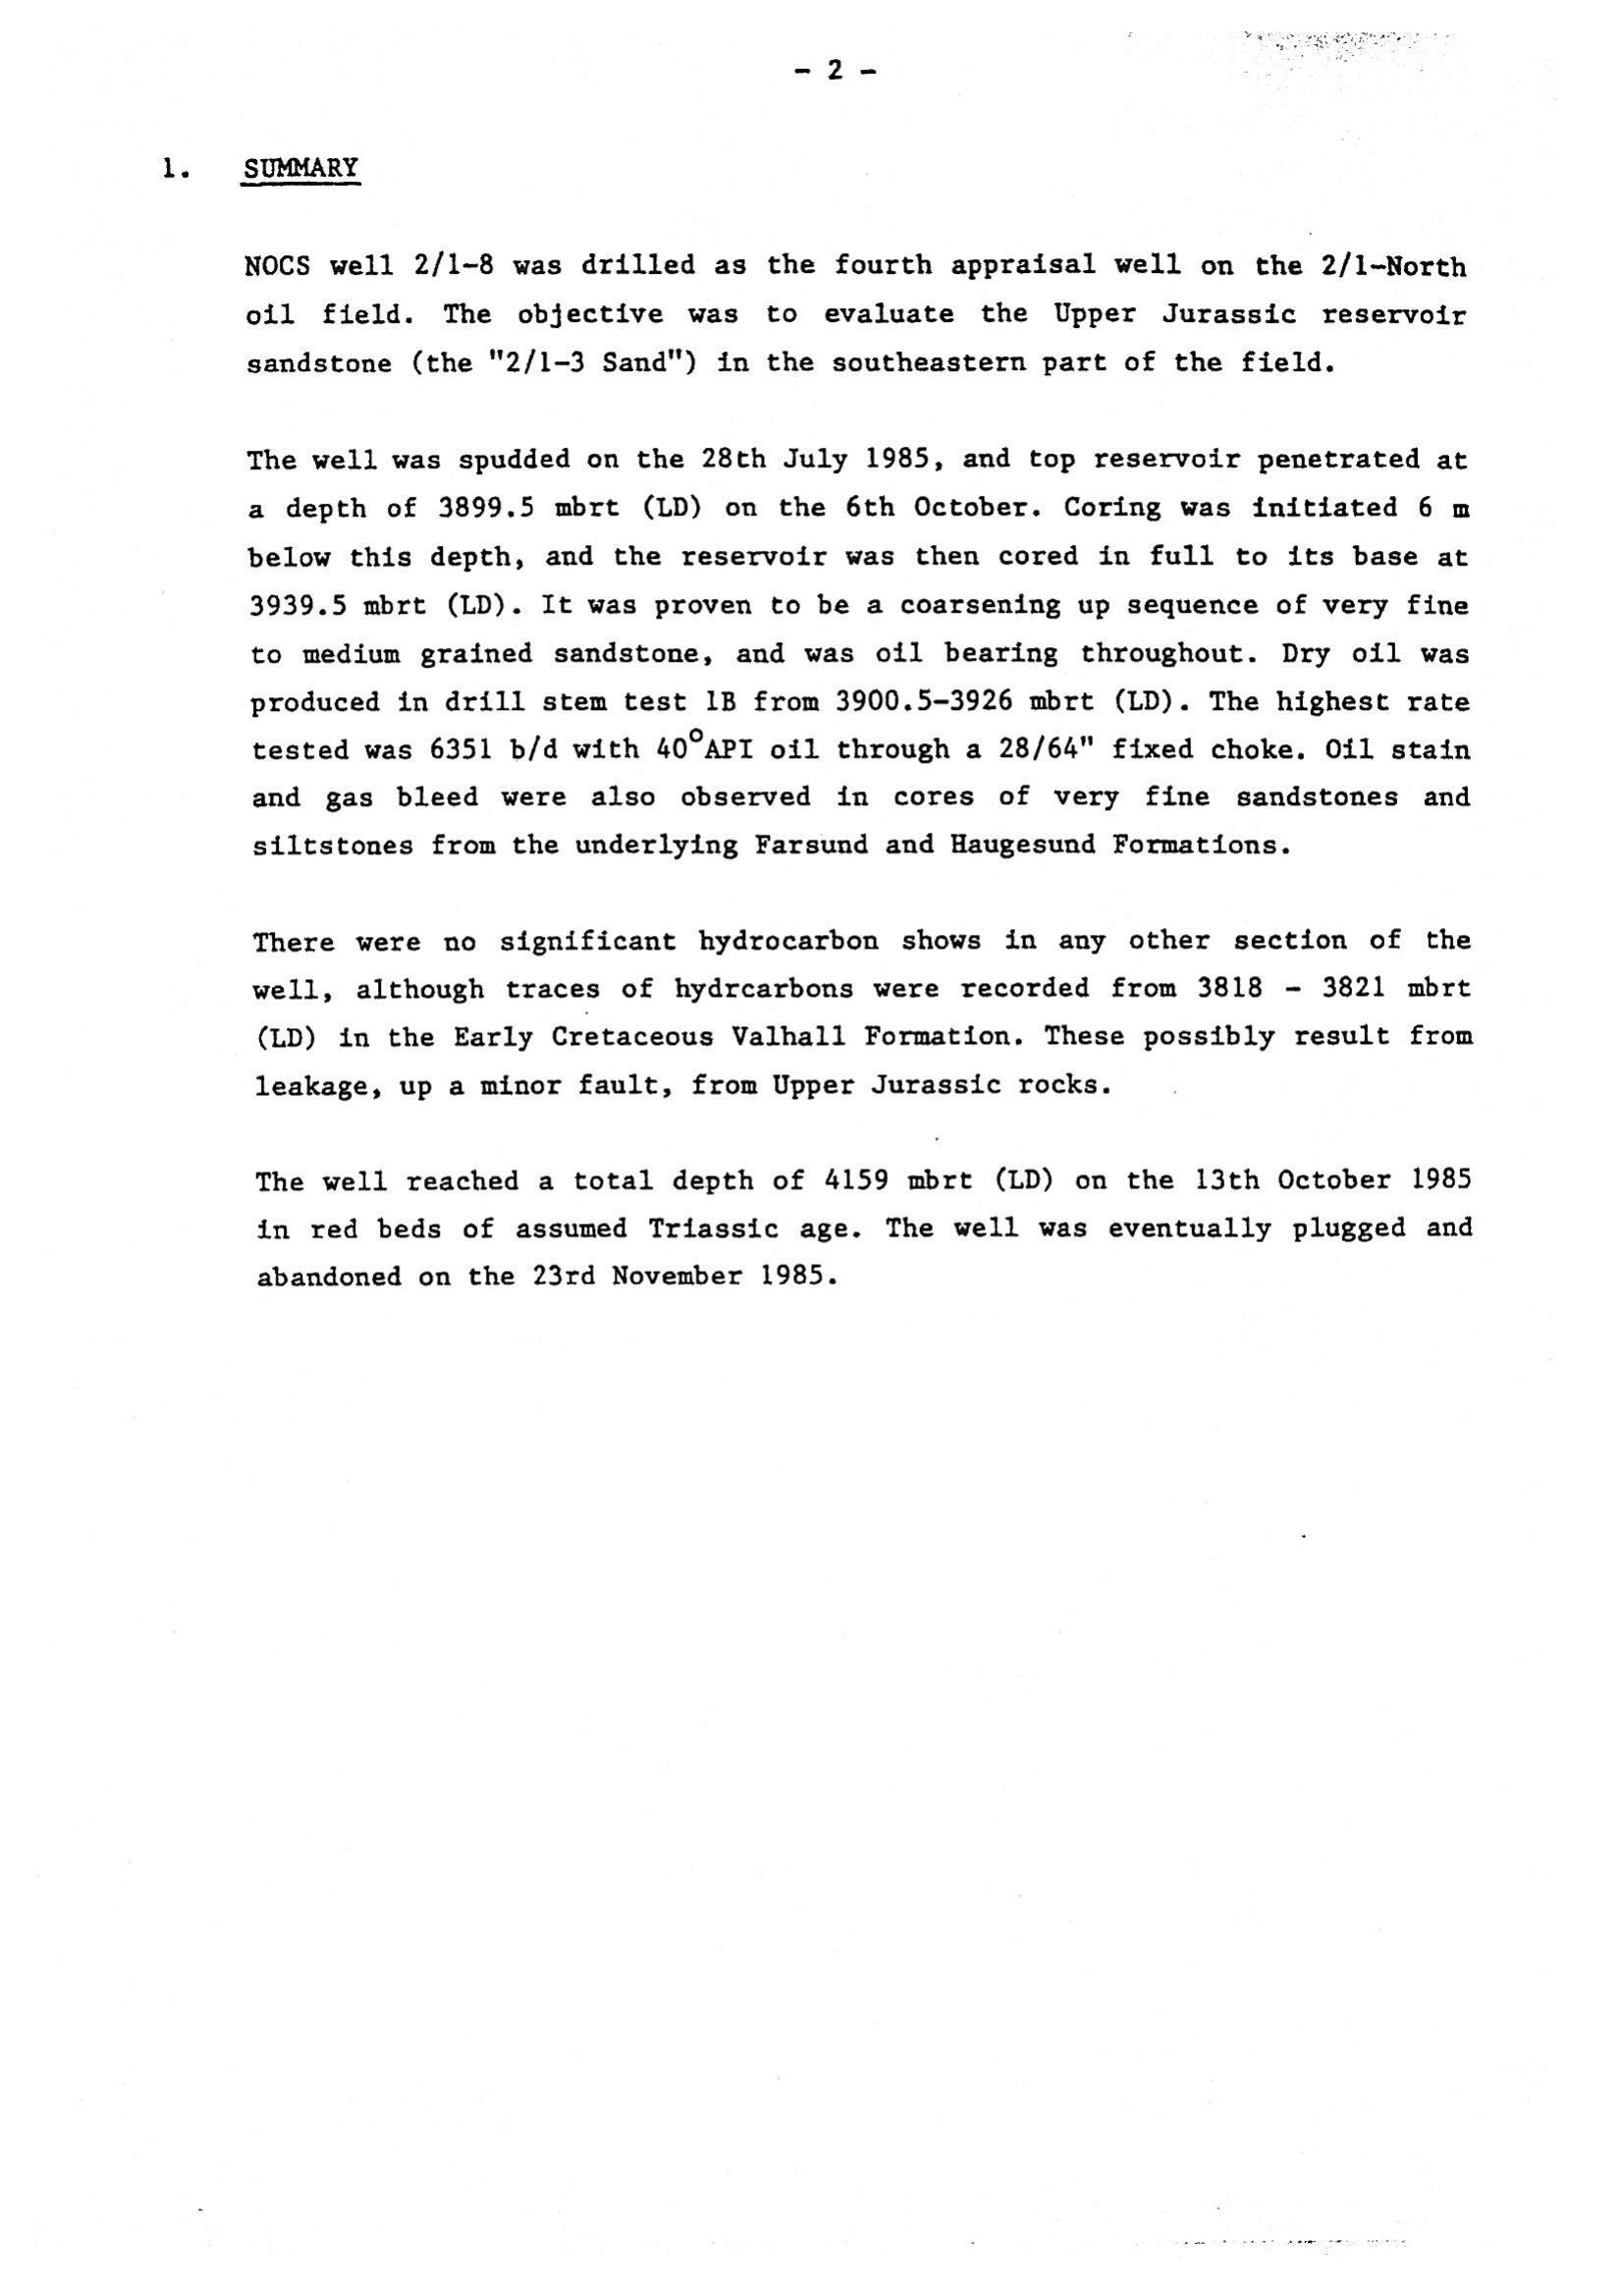text: (139, 125, 1530, 1358)
